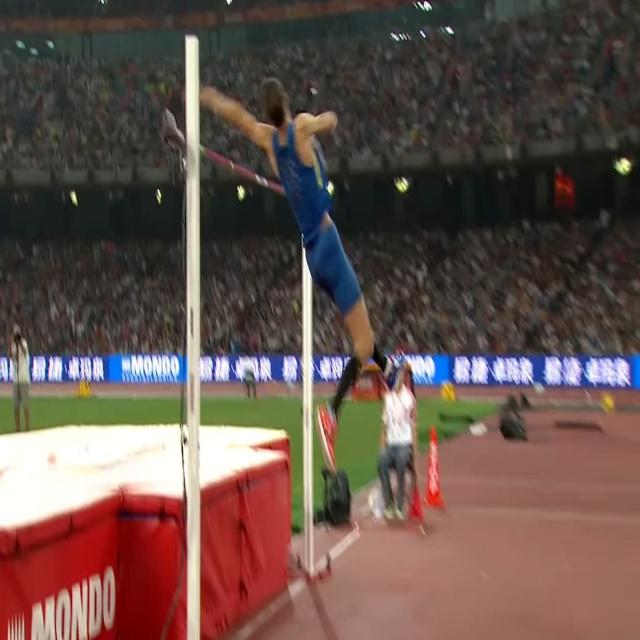jump: (201, 81, 418, 471)
